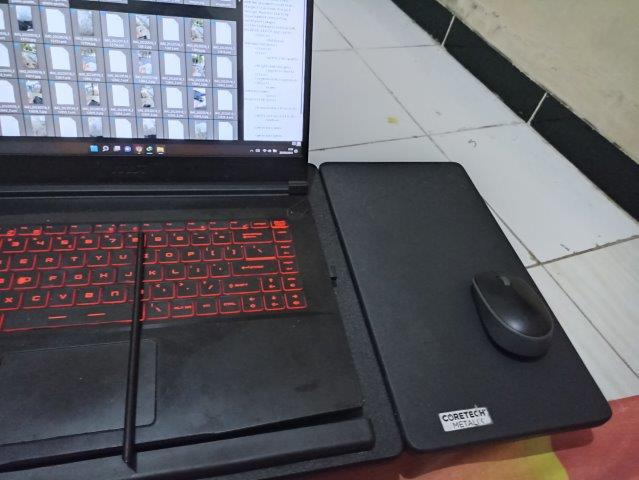sedotan: (123, 234, 145, 466)
